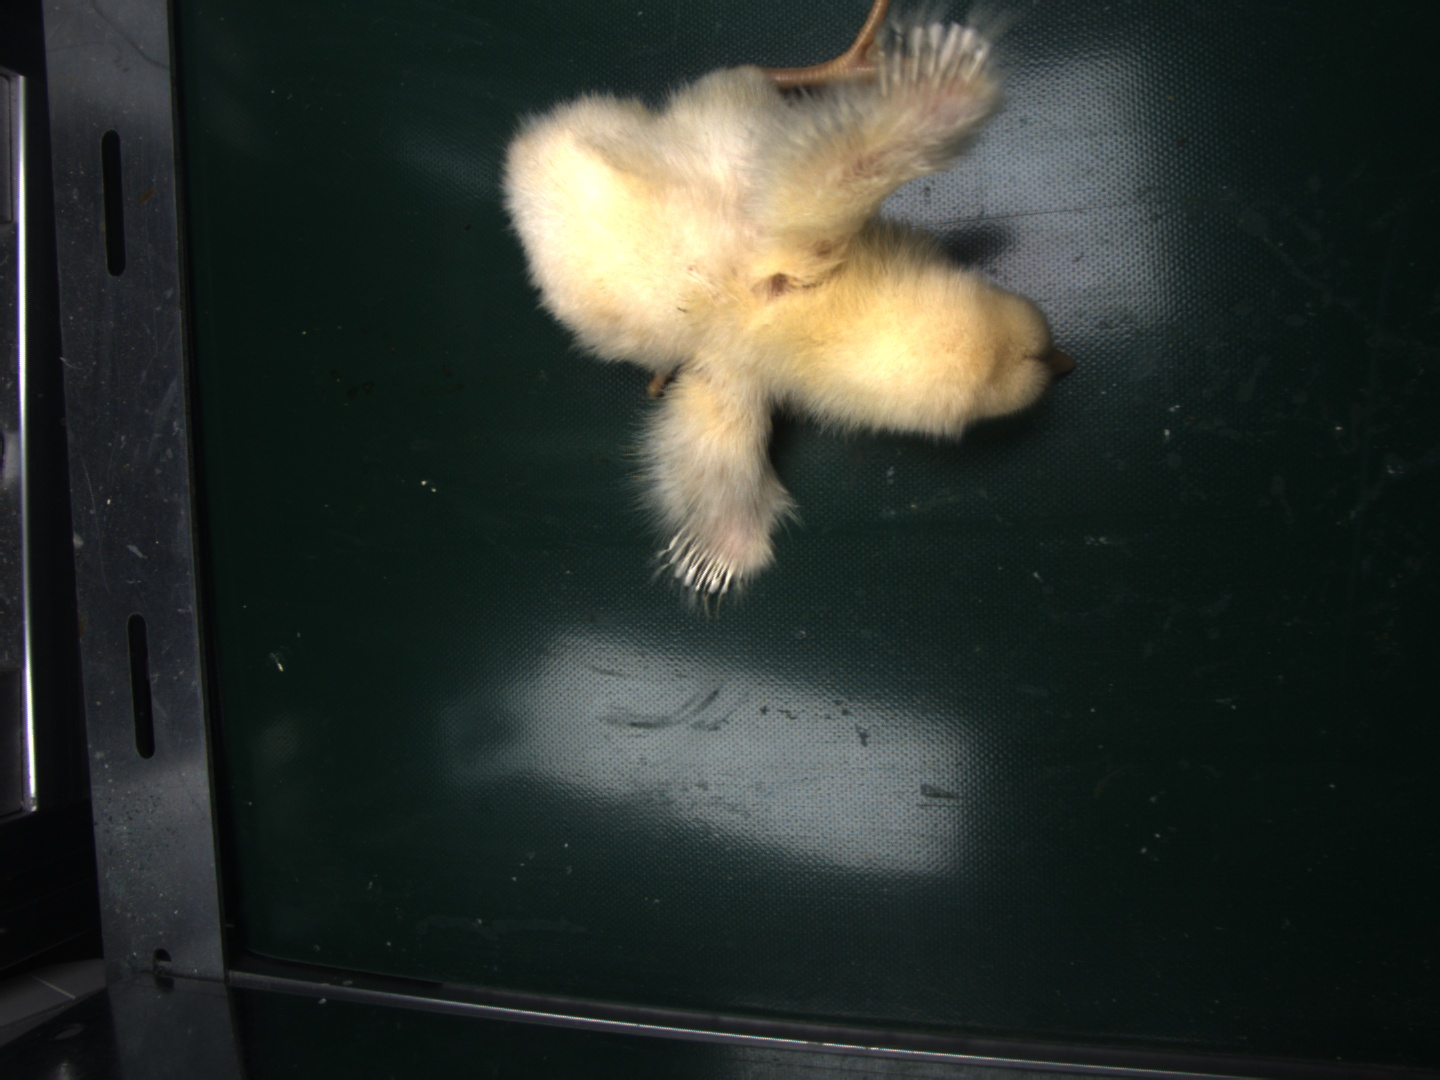male: (671, 531, 739, 597)
